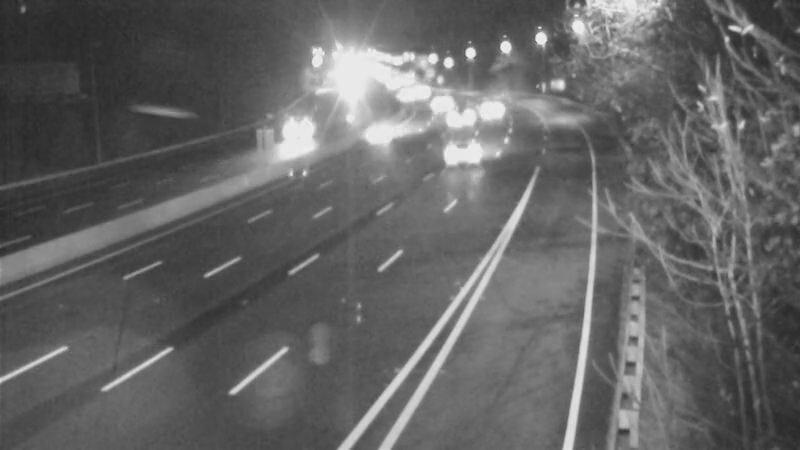vehicle: (417, 116, 497, 196), (397, 65, 447, 115), (381, 70, 431, 120), (416, 77, 466, 127), (463, 82, 513, 132), (431, 92, 481, 142), (360, 105, 410, 155), (267, 101, 317, 151)
